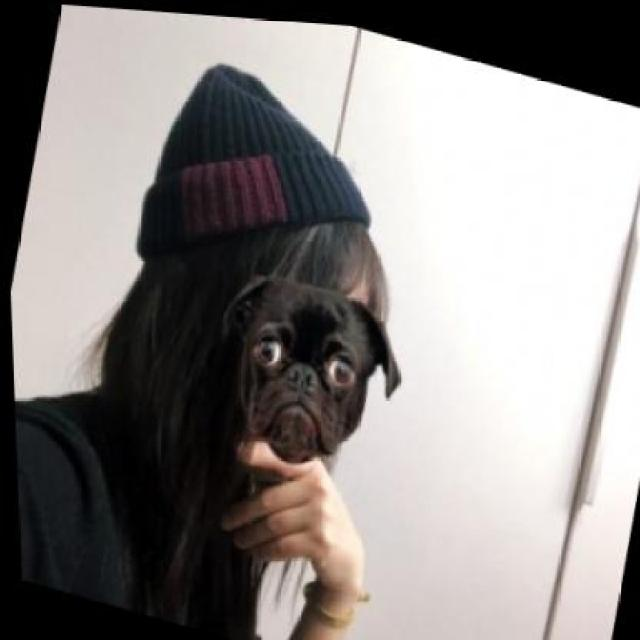hat: (127, 41, 395, 304)
